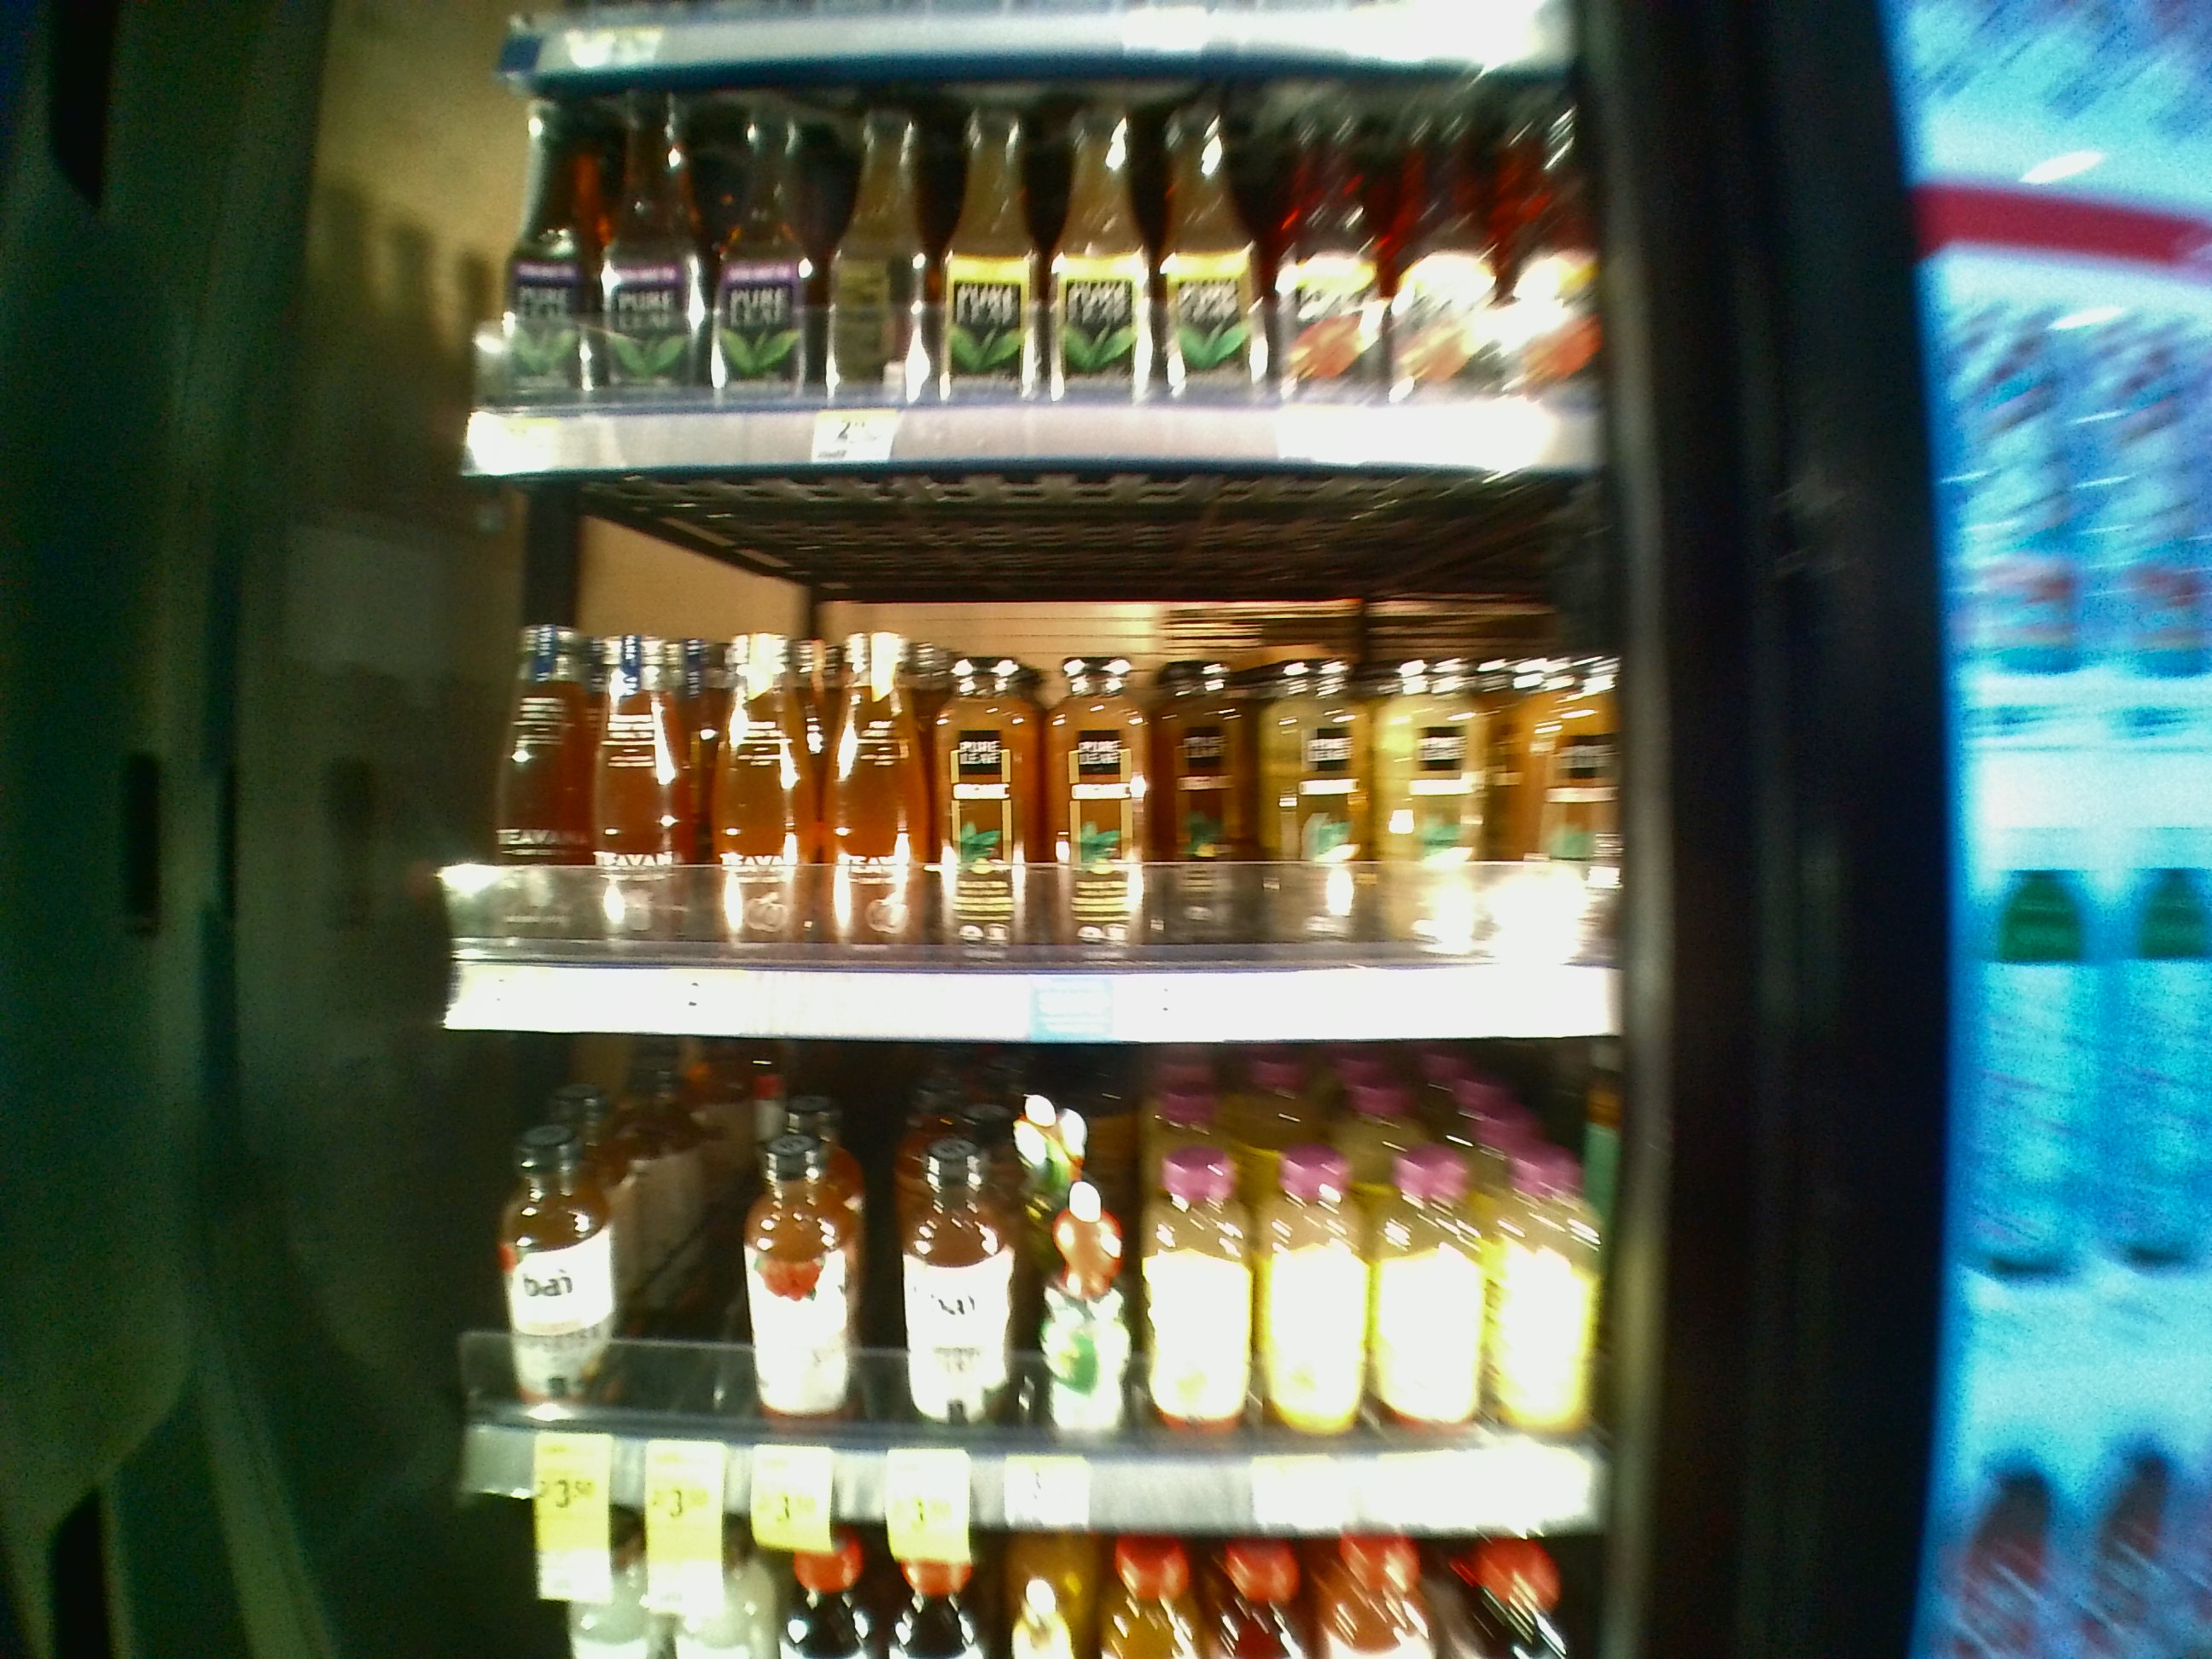shelf: (435, 490, 1623, 1044), (441, 1049, 1634, 1539), (449, 77, 1599, 481)
